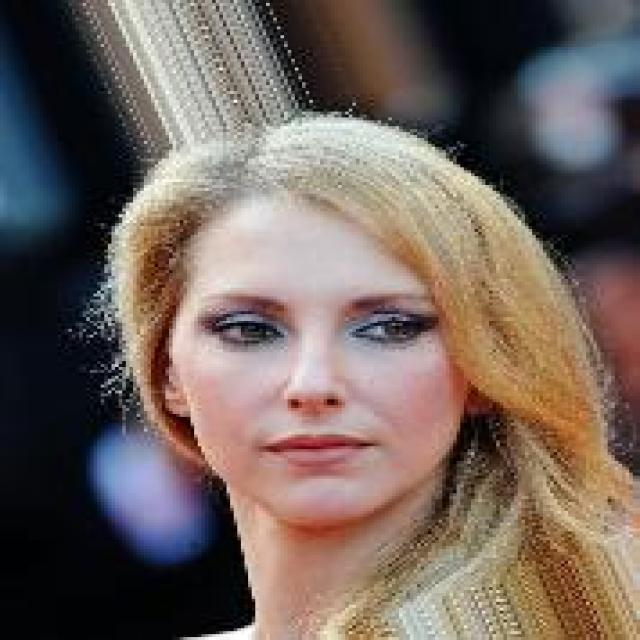nomask: (93, 147, 543, 549)
